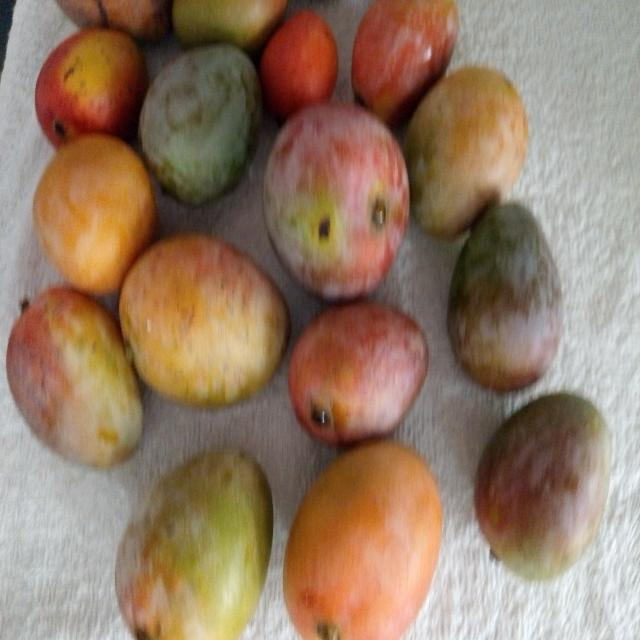mango: (284, 436, 444, 640), (118, 437, 276, 640), (122, 230, 292, 410), (263, 105, 417, 298), (474, 387, 617, 586), (9, 280, 148, 471), (287, 294, 429, 445)
